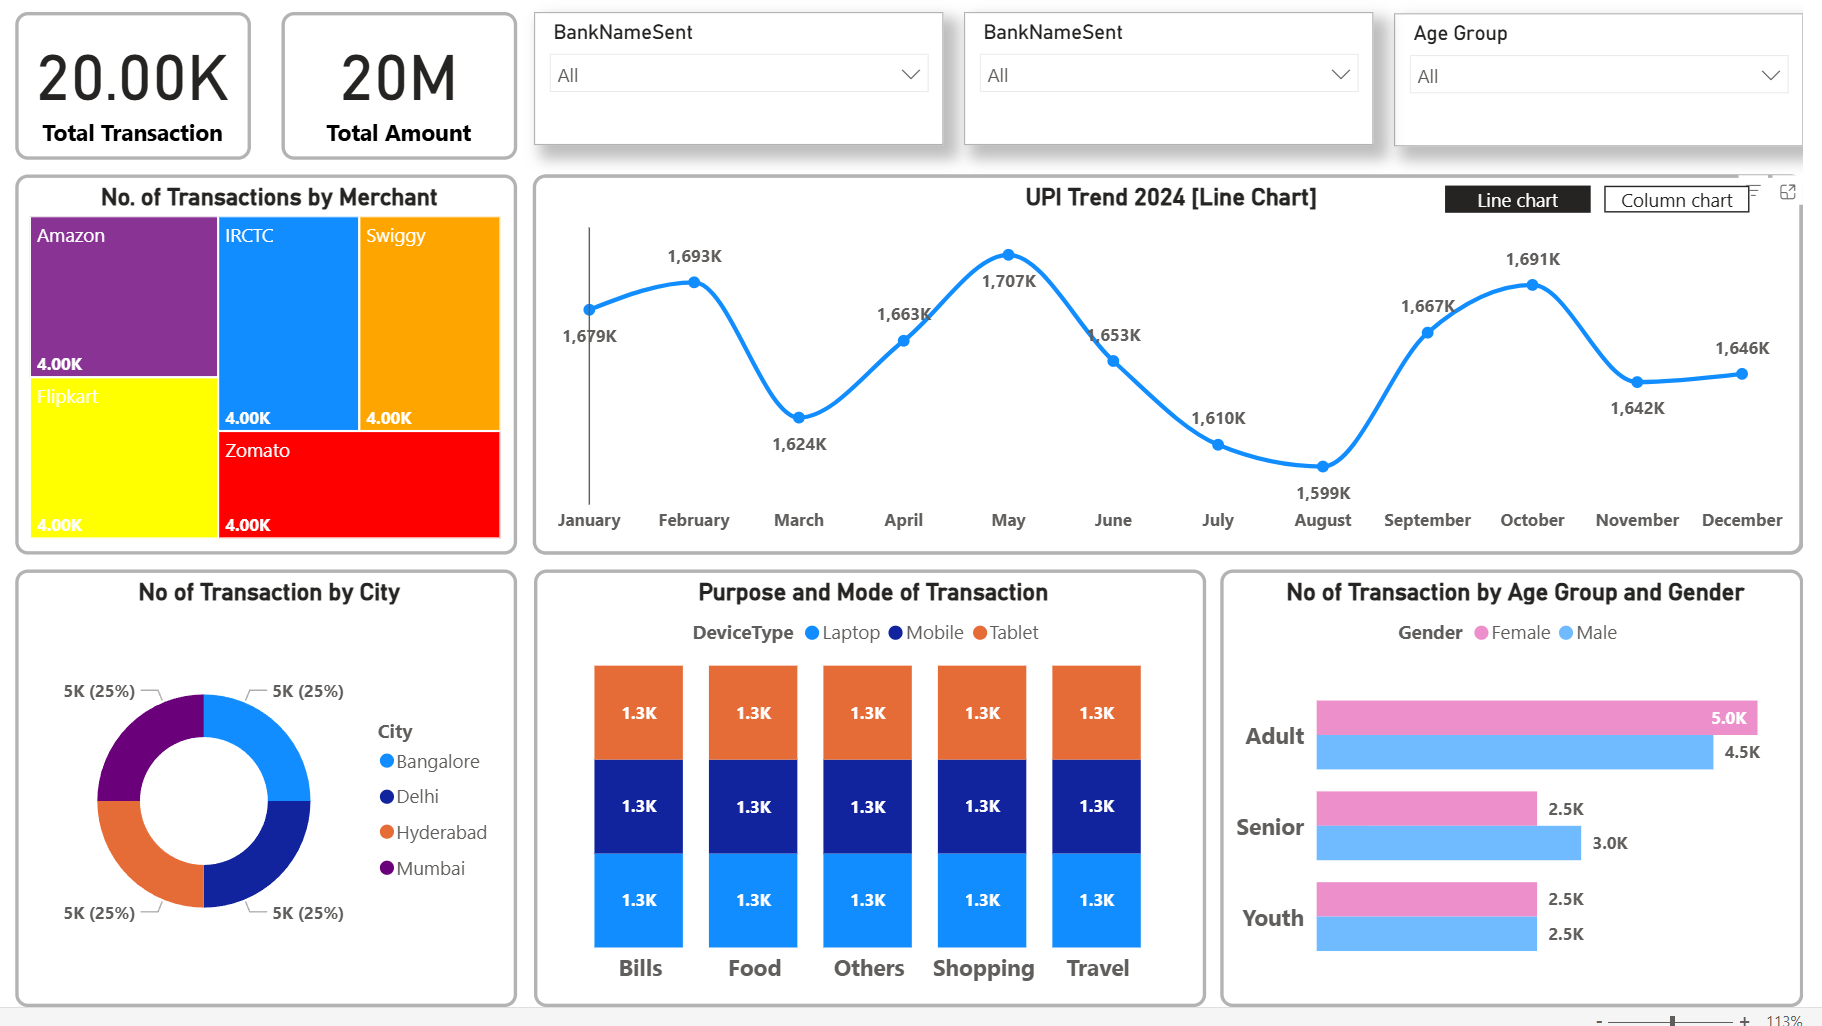

The dashboard page shown, as its layout file describes it:
{"tool":"powerbi","page":{"name":"Page 1","canvas":[1280,720],"ordinal":0},"visuals":[{"type":"slicer","fields":{"Values":["Sheet1.BankNameSent"]},"box":[379.1,14,290.7,94.2],"z":0},{"type":"slicer","fields":{"Values":["Sheet1.Age Group "]},"box":[989.5,15.1,290.7,94.2],"z":1000},{"type":"slicer","fields":{"Values":["Sheet1.BankNameSent"]},"box":[684.9,14,290.7,94.2],"z":2000},{"type":"lineChart","title":"UPI Trend 2024","fields":{"Y":["Sum(Sheet1.Amount)"],"Category":["Sheet1.TransactionDate.Variation.Date Hierarchy.Month"]},"box":[379.1,129.1,901.2,269.8],"z":3000},{"type":"treemap","title":"No. of Transactions by Merchant","fields":{"Group":["Sheet1.MerchantName"],"Values":["CountNonNull(Sheet1.TransactionID)"]},"box":[11.6,129.1,355.8,269.8],"z":4000},{"type":"donutChart","title":"No of Transaction by City","fields":{"Y":["CountNonNull(Sheet1.City)"],"Category":["Sheet1.City"]},"box":[11.6,409.3,355.8,310.5],"z":5000},{"type":"columnChart","title":"Purpose and Mode of Transaction","fields":{"Category":["Sheet1.Purpose"],"Y":["CountNonNull(Sheet1.TransactionID)"],"Series":["Sheet1.DeviceType"]},"box":[379.1,409.3,476.7,310.5],"z":6000},{"type":"clusteredBarChart","title":"No of Transaction by Age Group  and Gender","fields":{"Category":["Sheet1.Age Group "],"Y":["CountNonNull(Sheet1.TransactionID)"],"Series":["Sheet1.Gender"]},"box":[866.3,409.3,414,310.5],"z":7000},{"type":"card","fields":{"Values":["Count(Sheet1.TransactionID)"]},"box":[11.6,14,167.4,104.7],"z":8000},{"type":"card","fields":{"Values":["Sum(Sheet1.Amount)"]},"box":[200,14,167.4,104.7],"z":9000},{"type":"lineChart","title":"UPI Trend 2024 [Line Chart]","fields":{"Y":["Sum(Sheet1.Amount)"],"Category":["Sheet1.TransactionDate.Variation.Date Hierarchy.Month"]},"box":[378.8,129.1,901.2,269.8],"z":10000},{"type":"bookmarkNavigator","box":[1026,137.5,217.2,19.9],"z":10002}]}

Visuals, with their boxes in screenshot pixels (x1, y1, x2, y2), scaled from the page's 1280x720 canvas onto the 1822x1026 screenshot:
slicer - Sheet1.BankNameSent: detection(540, 20, 953, 154)
slicer - Sheet1.Age Group : detection(1408, 22, 1821, 156)
slicer - Sheet1.BankNameSent: detection(975, 20, 1389, 154)
"UPI Trend 2024" lineChart: detection(540, 184, 1821, 568)
"No. of Transactions by Merchant" treemap: detection(17, 184, 523, 568)
"No of Transaction by City" donutChart: detection(17, 583, 523, 1025)
"Purpose and Mode of Transaction" columnChart: detection(540, 583, 1218, 1025)
"No of Transaction by Age Group  and Gender" clusteredBarChart: detection(1233, 583, 1821, 1025)
card - Count(Sheet1.TransactionID): detection(17, 20, 255, 169)
card - Sum(Sheet1.Amount): detection(285, 20, 523, 169)
"UPI Trend 2024 [Line Chart]" lineChart: detection(539, 184, 1821, 568)
bookmarkNavigator: detection(1460, 196, 1770, 224)
